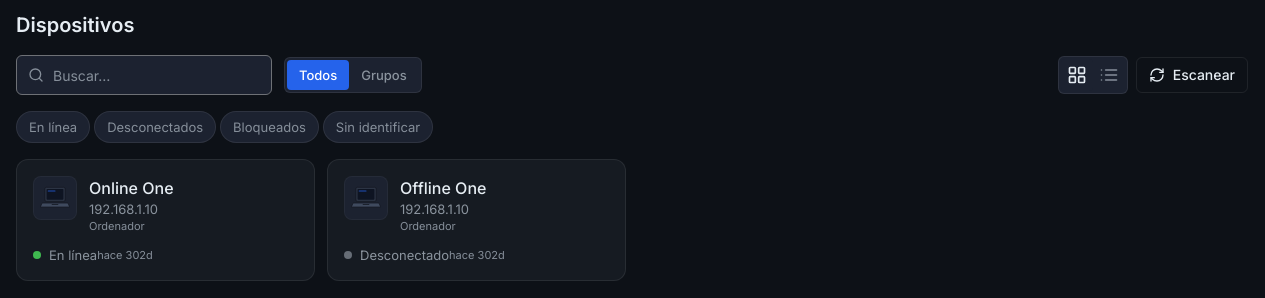
Test: InventoryPage › el filtro "Offline" oculta los dispositivos online
Step 1. Click the button "Desconectados" → {"x": 155, "y": 127}, box [94,111,216,143]
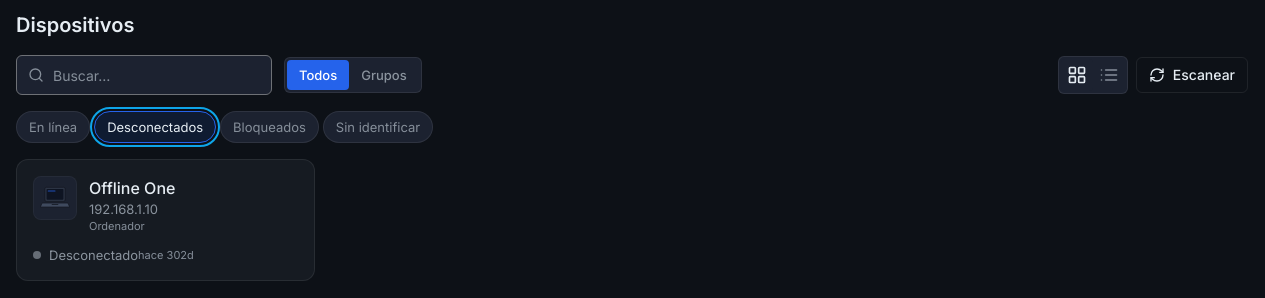
Expected: the text "Offline One" is shown, [89,176,175,200]
Expected: the button "Online One" is gone
